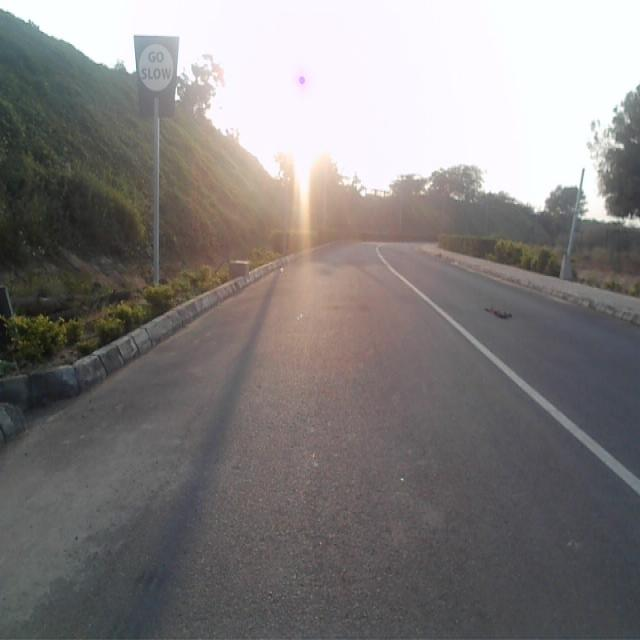lane: (0, 244, 640, 640)
